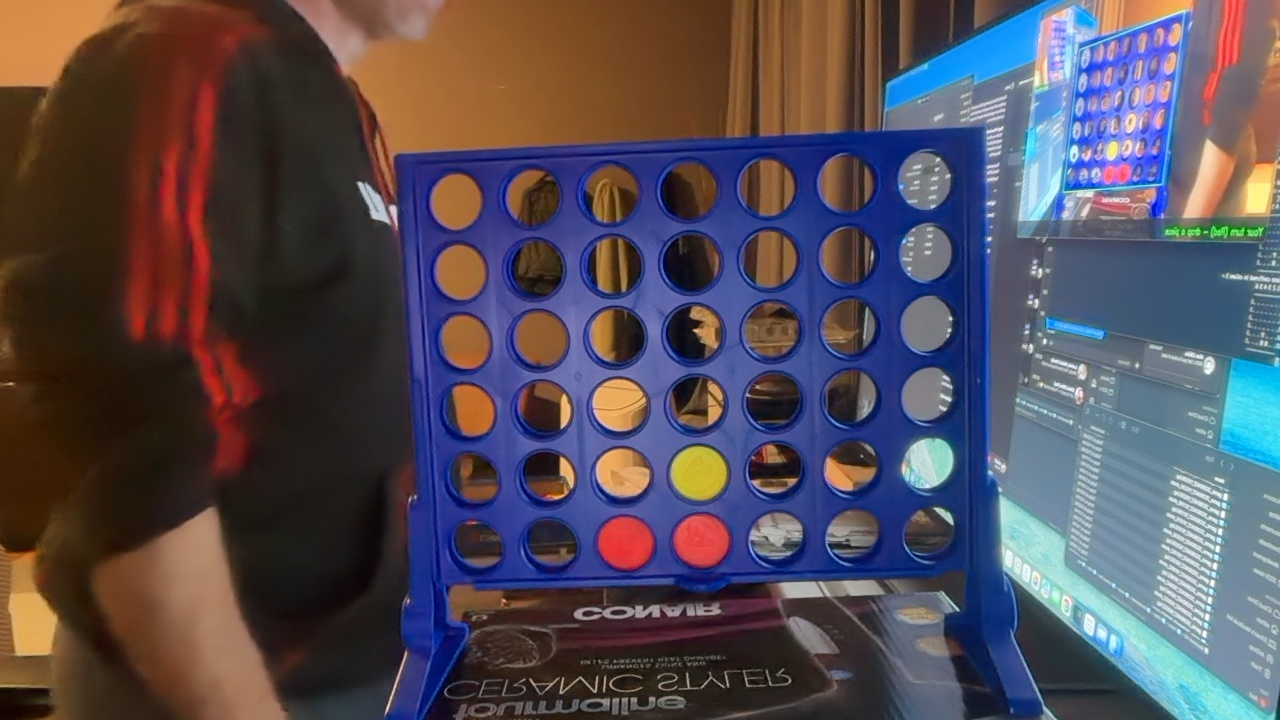red piece: (596, 516, 655, 571), (673, 513, 729, 569)
yellow piece: (670, 445, 728, 501)
